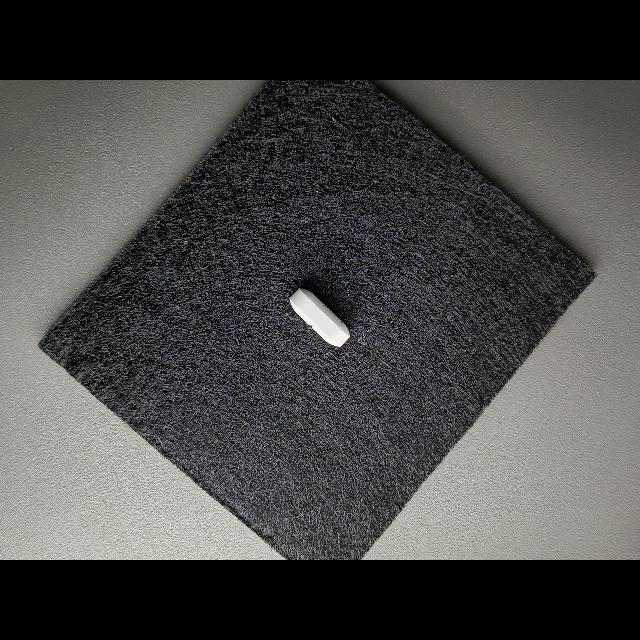Intact Pill: (289, 288, 350, 347)
